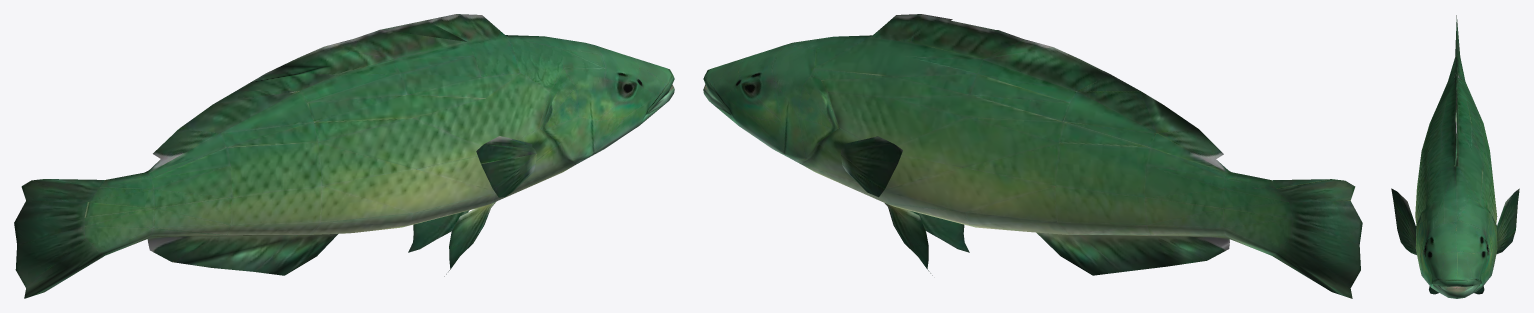
Rendered from fish_green.glb.
3 renders of one model, left to right at view 1: azimuth 30°, elevation 25°; view 2: azimuth 150°, elevation 25°; view 3: azimuth 270°, elevation 25°, orthographic. The views are drawn at different scales.
Parts seen in each view (by area): view 1: geometry_0; view 2: geometry_0; view 3: geometry_0.
Part boxes in pixels (x1,y1,x2,y2): geometry_0: (14,14,674,298); geometry_0: (703,14,1362,298); geometry_0: (1391,15,1519,298).
Bounding box in the file's own units: 1 × 0.3588 × 0.2265.
1 material, 1 textured.
